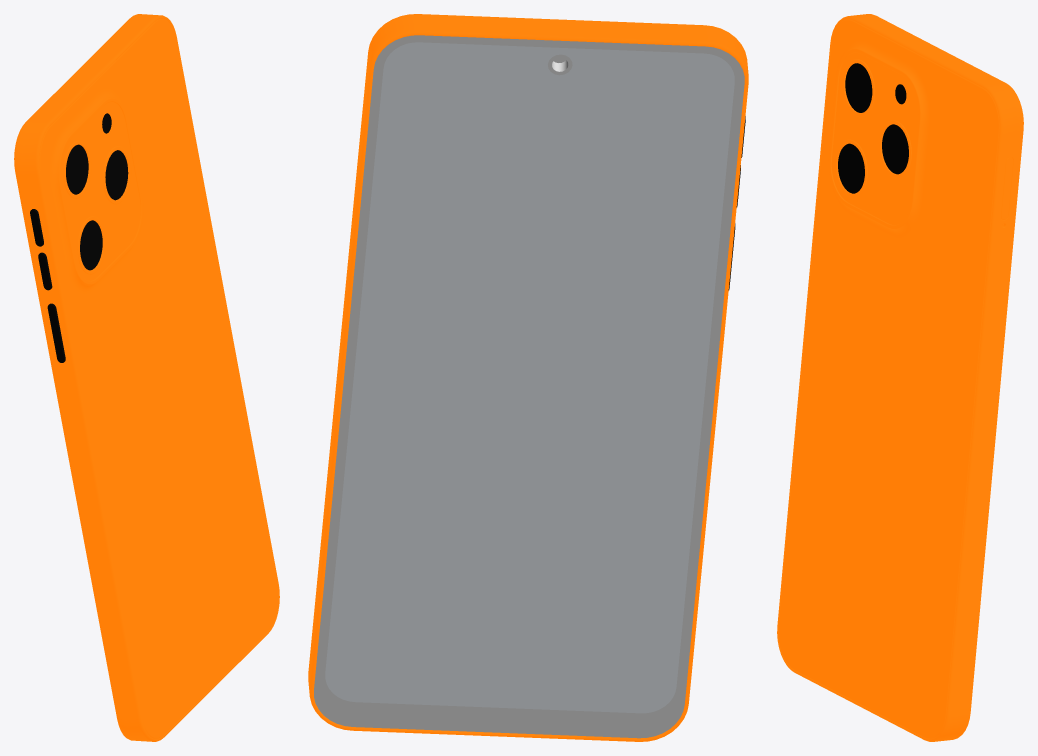
The model's file is phone.glb.
The picture shows the model from 3 angles, left to right: view 1: azimuth 30°, elevation 25°; view 2: azimuth 150°, elevation 25°; view 3: azimuth 270°, elevation 25°; orthographic projection. The views are drawn at different scales.
Visible parts, largest first — view 1: Phone-Mat.1 (×2), Lens Covers, Button 1; view 2: Display-Mat.1, Display, Phone-Mat.1; view 3: Phone-Mat.1 (×2), Lens Covers.
Part boxes in pixels (<box>): Phone-Mat.1 (×2): <box>14,14,279,741</box>; Lens Covers: <box>66,144,128,270</box>; Button 1: <box>47,303,65,362</box>; Display-Mat.1: <box>325,42,734,713</box>; Display: <box>314,35,744,738</box>; Phone-Mat.1: <box>308,14,748,741</box>; Phone-Mat.1 (×2): <box>777,14,1023,741</box>; Lens Covers: <box>838,63,908,193</box>.
Size of what is drawn, in the model's own units: 0.0886 by 0.1717 by 0.0607.
